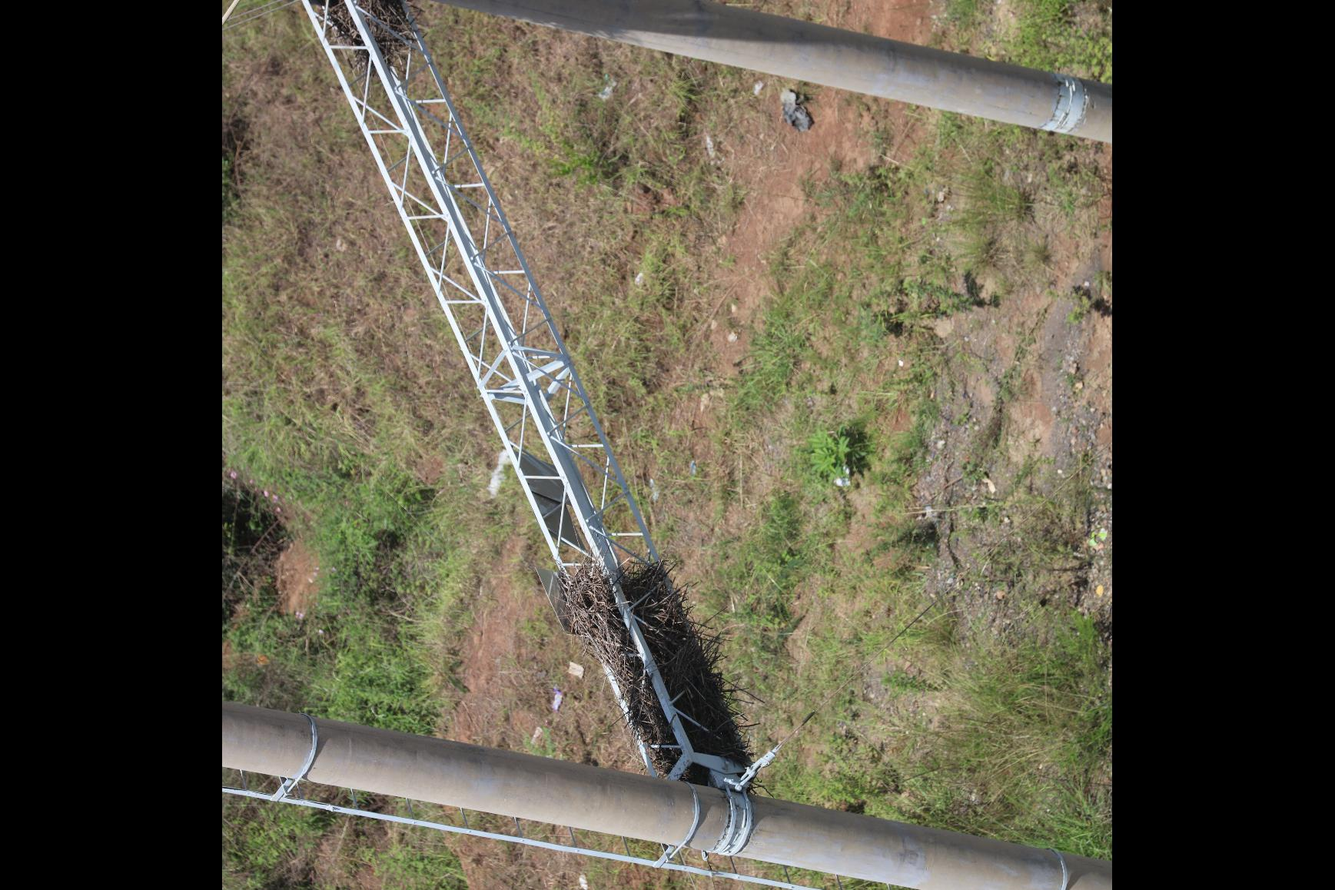nest: (552, 553, 760, 785), (317, 1, 423, 79)
